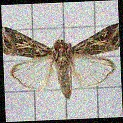Spodoptera litura: (3, 23, 120, 101)
